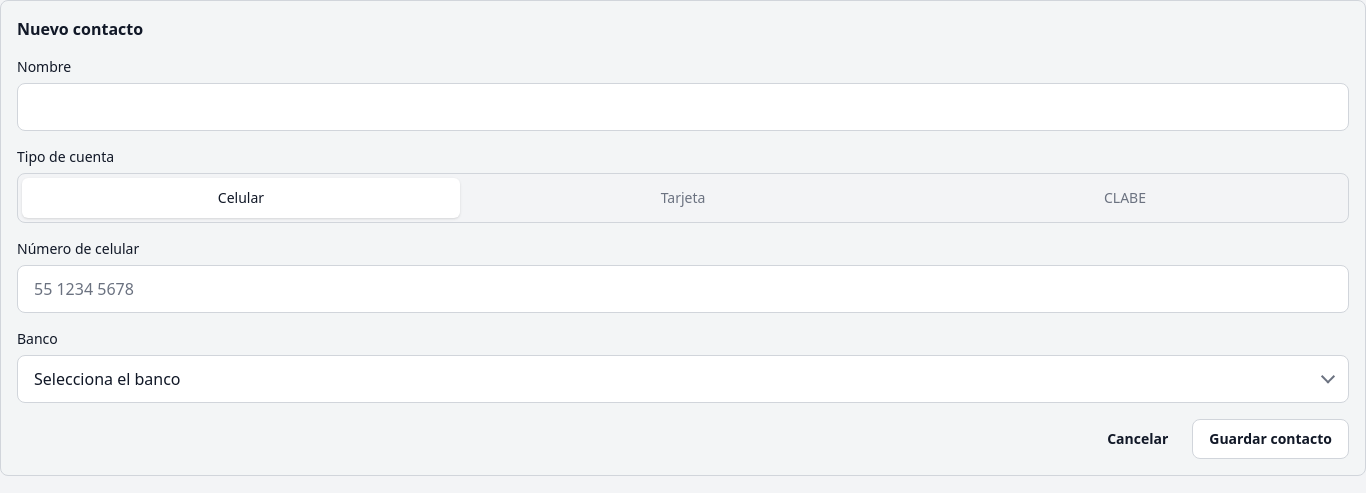
Test case: NewContactForm › [SPEC-CT-AC04] PHONE usa su máscara
Step 1. Type "5512345678" into the field labelled "Número de celular" → (683,289), box [34,266,1332,312]
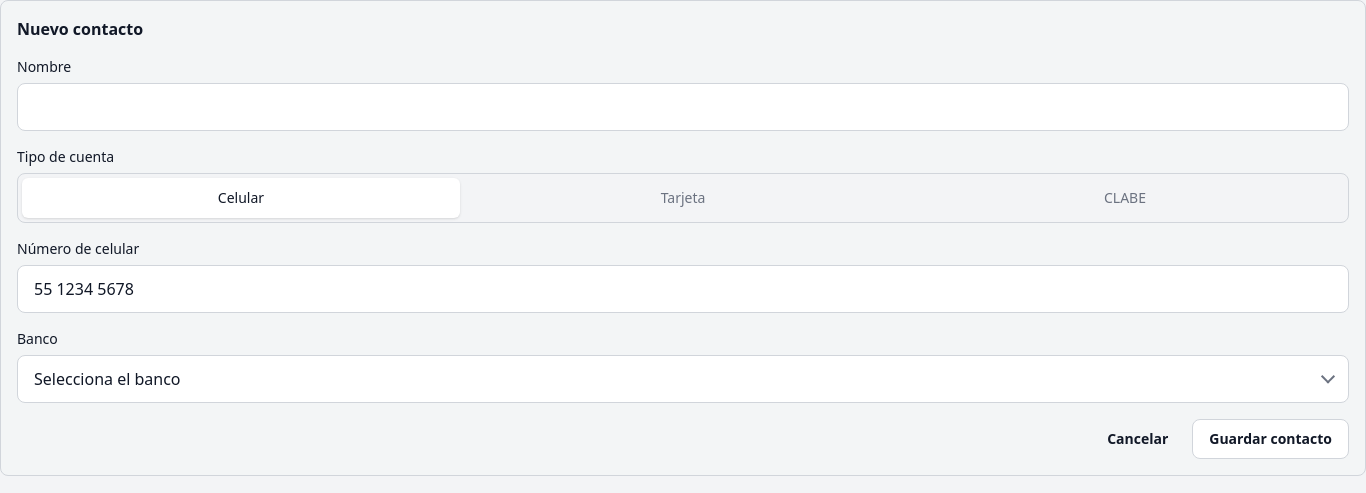
expect the field labelled "Número de celular" holds "55 1234 5678": met, box [34,266,1332,312]
